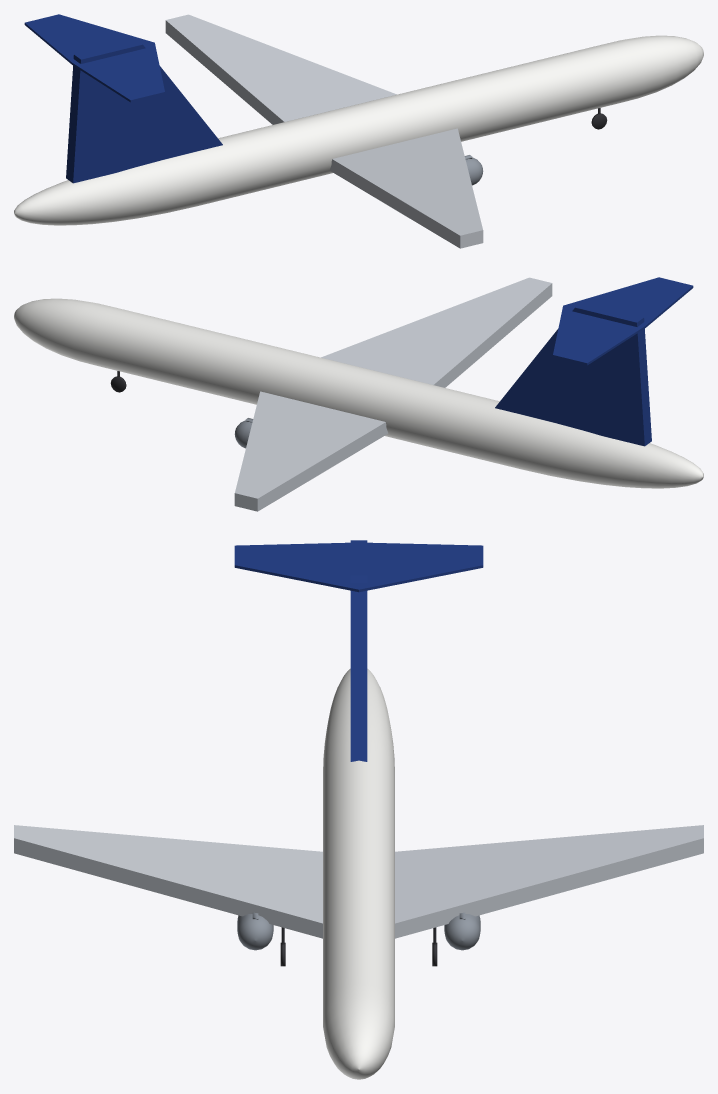
3 renders of one model, top to bottom at view 1: azimuth 30°, elevation 25°; view 2: azimuth 150°, elevation 25°; view 3: azimuth 270°, elevation 25°, orthographic. The views are drawn at different scales.
Parts seen in each view (by area): view 1: fuselage, wings, tail; view 2: fuselage, wings, tail; view 3: wings, fuselage, tail, engines.
Part boxes in pixels (x1=…): fuselage: x1=14, y1=35, x2=703, y2=225; wings: x1=165, y1=14, x2=483, y2=248; tail: x1=24, y1=14, x2=222, y2=183; fuselage: x1=14, y1=298, x2=703, y2=488; wings: x1=234, y1=277, x2=552, y2=511; tail: x1=495, y1=277, x2=693, y2=446; wings: x1=14, y1=825, x2=703, y2=938; fuselage: x1=323, y1=668, x2=394, y2=1079; tail: x1=234, y1=540, x2=483, y2=761; engines: x1=237, y1=912, x2=480, y2=950.
Bounding box in the file's own units: 38.7 × 10.69 × 28.7.
